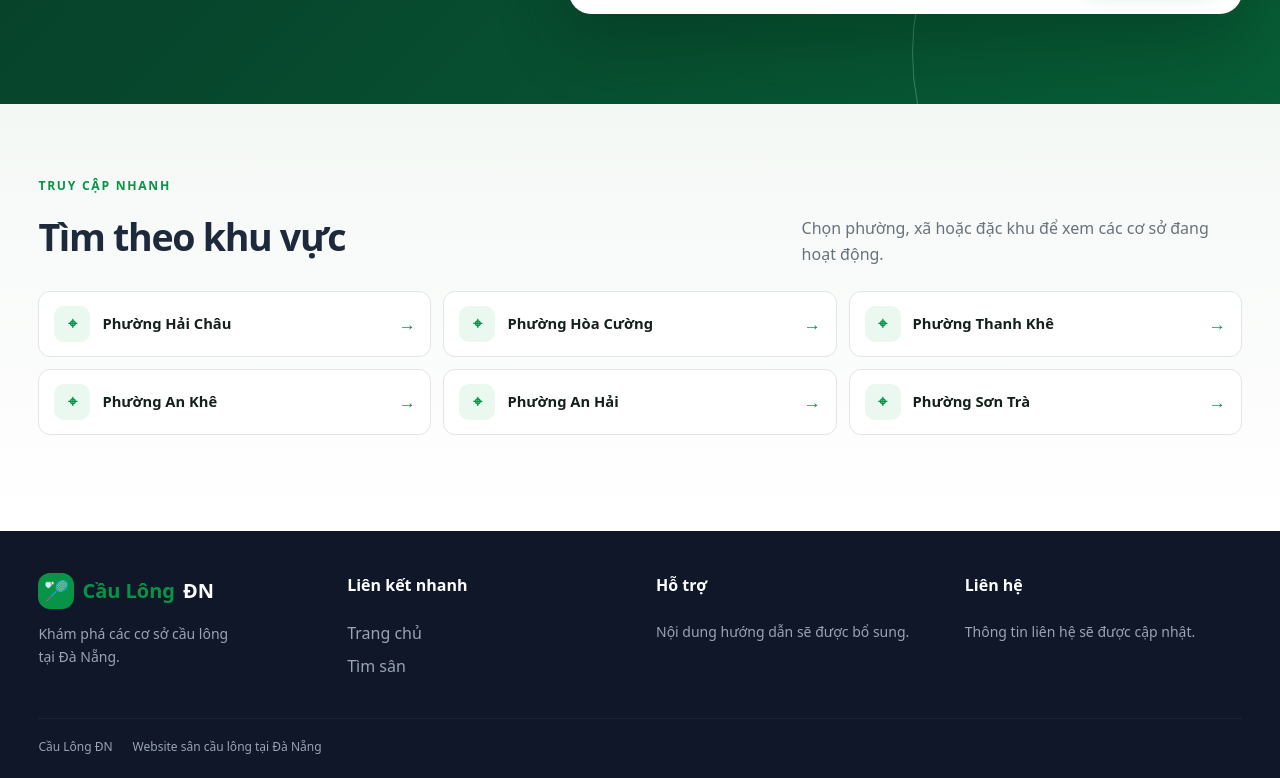
Test: uses canonical district quick filters and preserves public header session states
(page scrolled)
Click the link "⌖ Phường An Hải →". click: (477, 402)
box: [444,369,837,435]
(page scrolled)
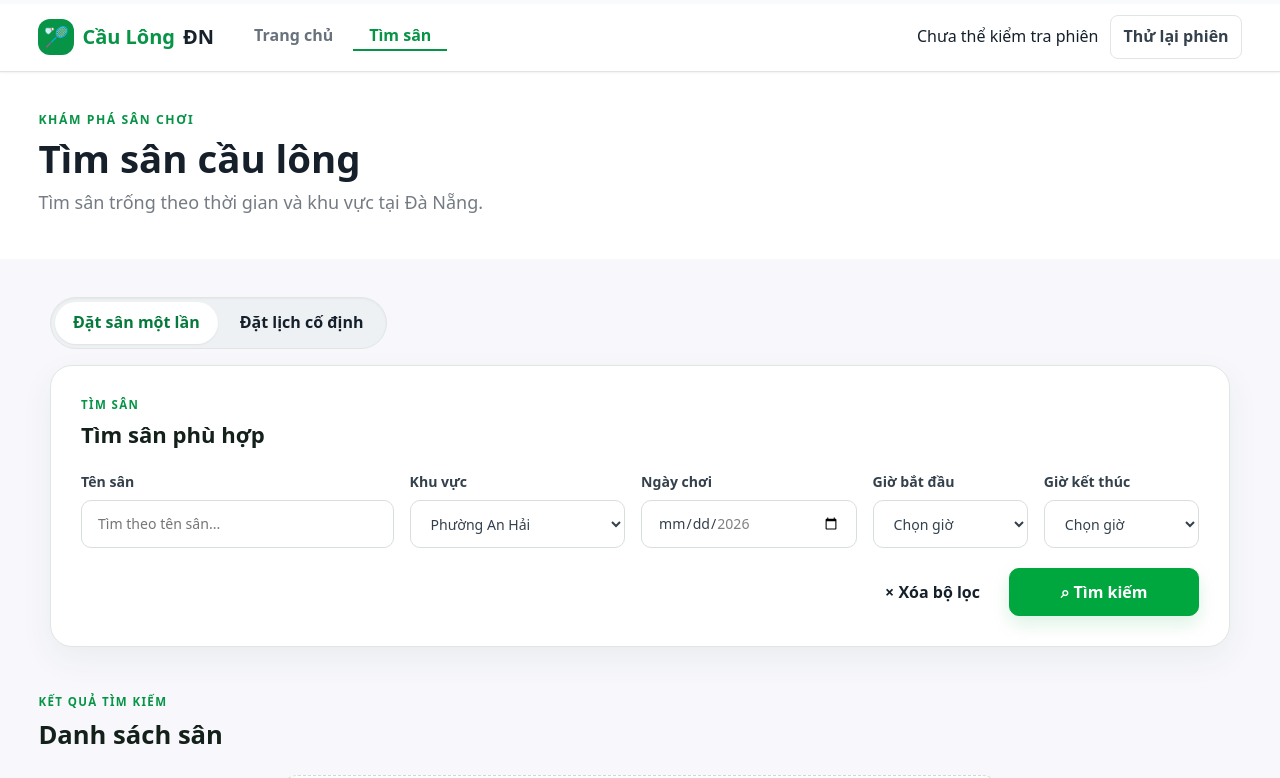
Now the text "Chưa thể kiểm tra phiên" is shown, box [917,24,1098,50]
